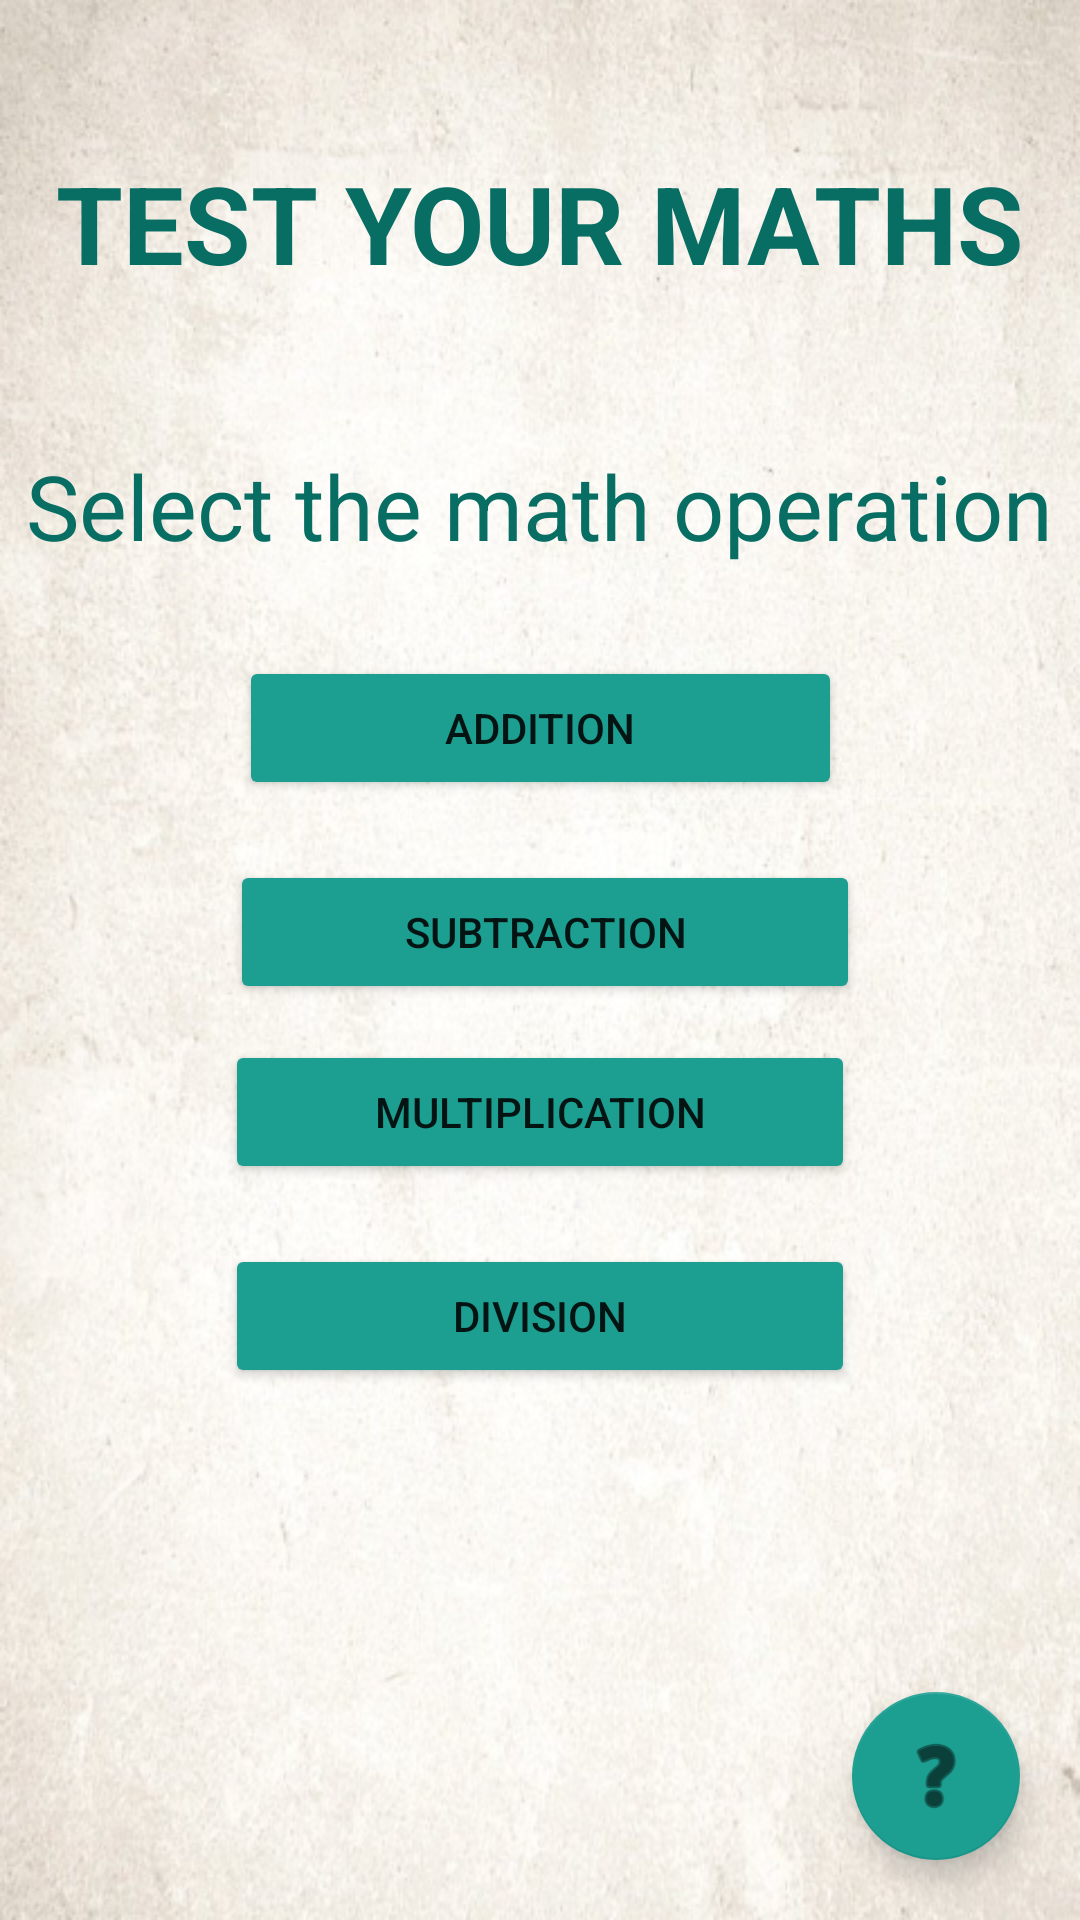

Locate icon controls on the screen. Image size 1080*1920, boxes as {"x1": x1, "y1": y1, "x2": x2, "y2": y2}.
help: {"x1": 852, "y1": 1692, "x2": 1020, "y2": 1860}
